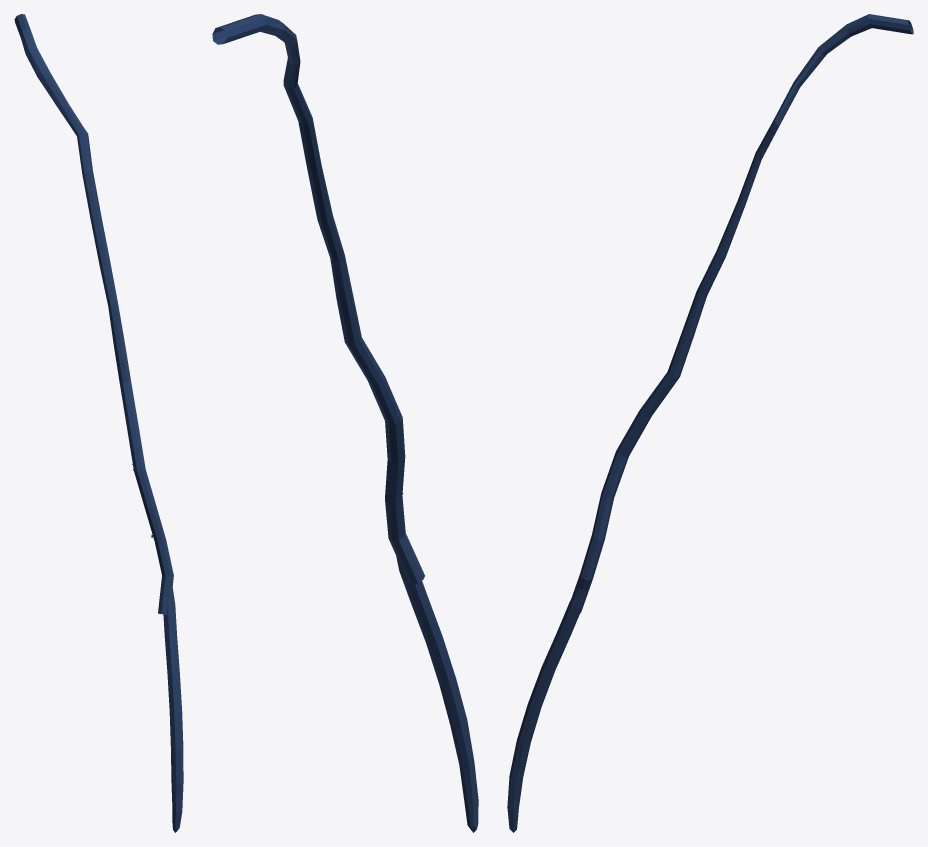
Rendered from Vena Torácica Interna.FBX.
3 renders of one model, left to right at view 1: azimuth 30°, elevation 25°; view 2: azimuth 150°, elevation 25°; view 3: azimuth 270°, elevation 25°, orthographic. The views are drawn at different scales.
Visible parts, largest first — view 1: CS_Veins; view 2: CS_Veins; view 3: CS_Veins.
Part boxes in pixels (x1=…): CS_Veins: x1=14, y1=14, x2=183, y2=832; CS_Veins: x1=212, y1=14, x2=478, y2=832; CS_Veins: x1=507, y1=14, x2=913, y2=832.
Size of the model in its own units: 41.93 by 767 by 345.
